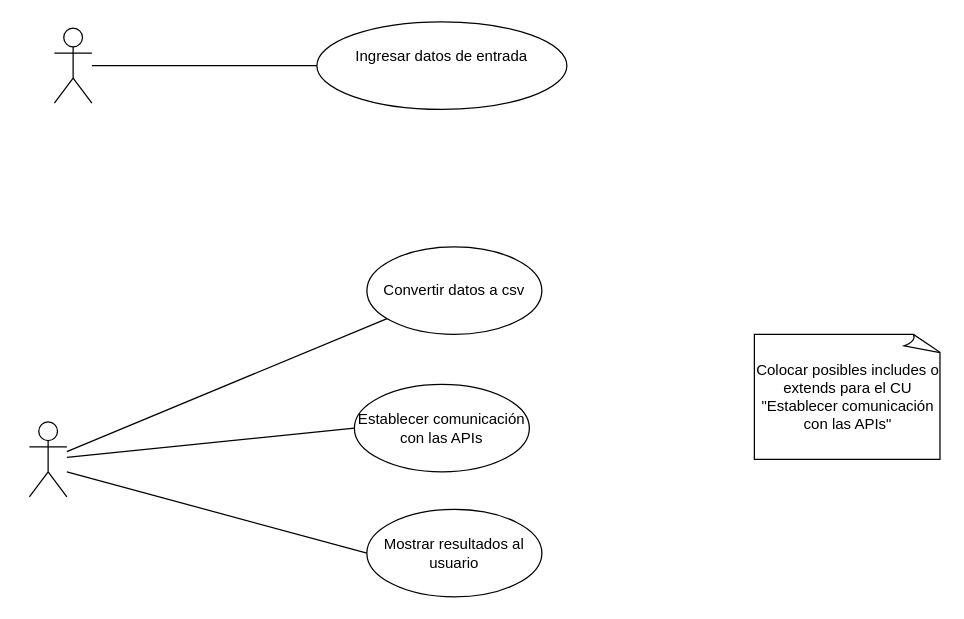
This 964x619 diagram has some shape labels left out. The centre of each missing label's shape, as x and y in pixels:
Sistema: (47,459)
Usuario Final: (72,65)
